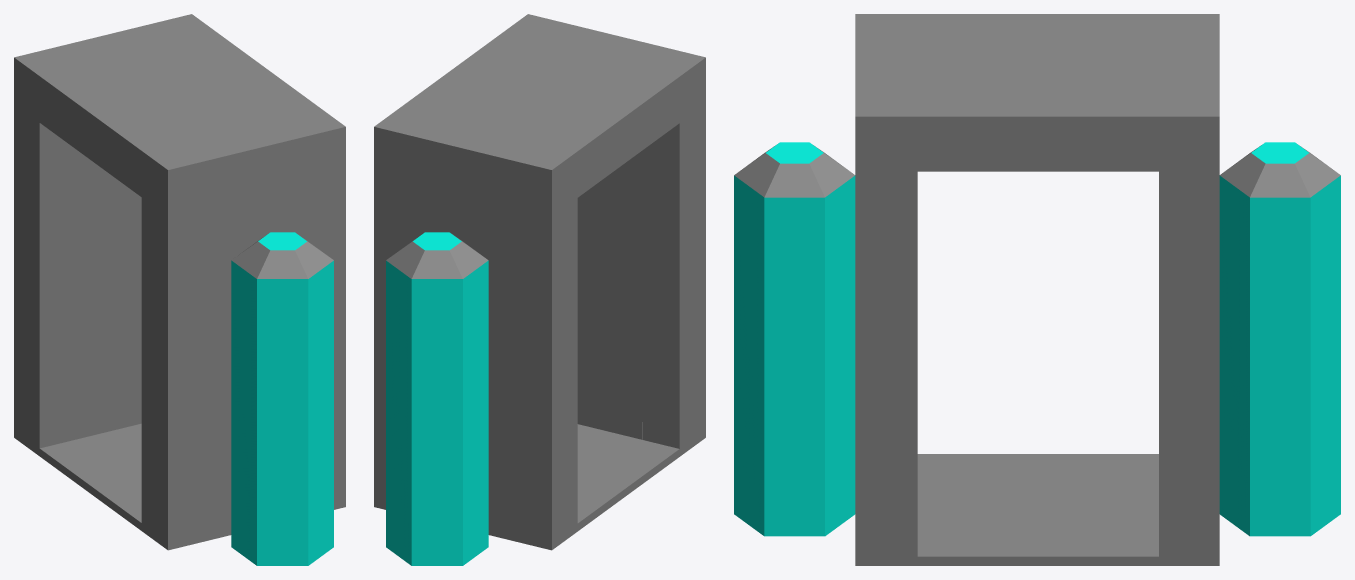
Rendered from CyborgFacility_CyborgImplant_001.fbx.
3 views of the same model, side by side, from view 1: azimuth 30°, elevation 25°; view 2: azimuth 150°, elevation 25°; view 3: azimuth 270°, elevation 25° (orthographic). The views are drawn at different scales.
Visible parts, largest first — view 1: Cube; view 2: Cube; view 3: Cube.
Boxes of the visible parts, x1,y1,x2,y2 form: Cube: (14, 14, 345, 565); Cube: (374, 14, 705, 565); Cube: (734, 14, 1340, 565).
Bounding box in the file's own units: 400 × 1000 × 817.
Materials: 1 (1 with a texture image).
